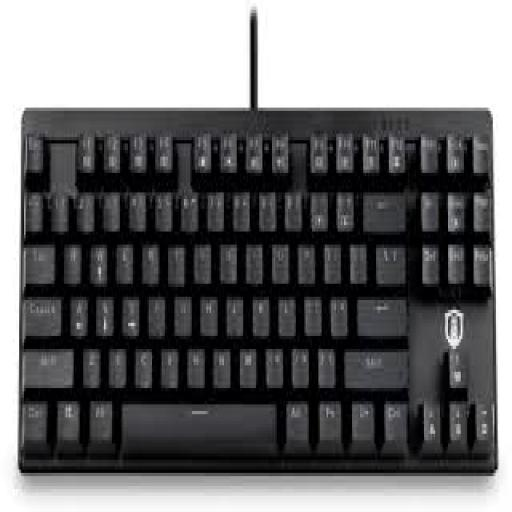KEYBOARD-2: (14, 108, 498, 470)
